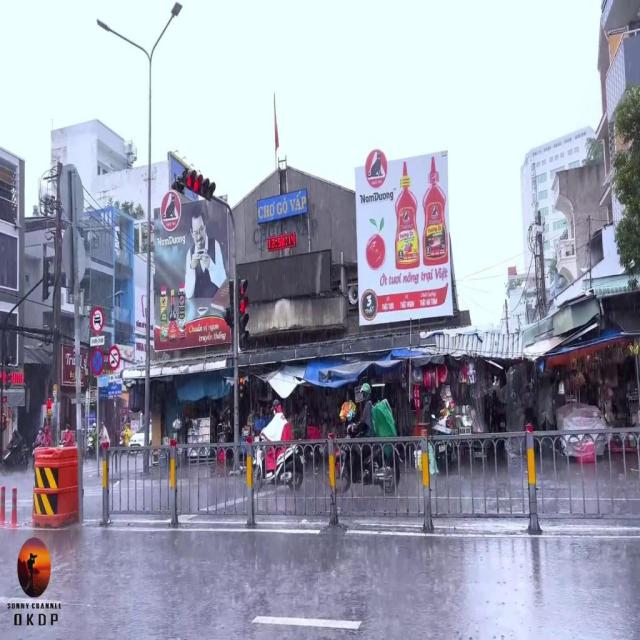cam_dung_xe_va_do_xe: (90, 347, 104, 376)
cam_o_to: (90, 307, 104, 335)
cam_o_to_tai_va_xe_khach: (108, 348, 120, 370)
khac: (90, 336, 105, 346), (108, 373, 121, 383)
